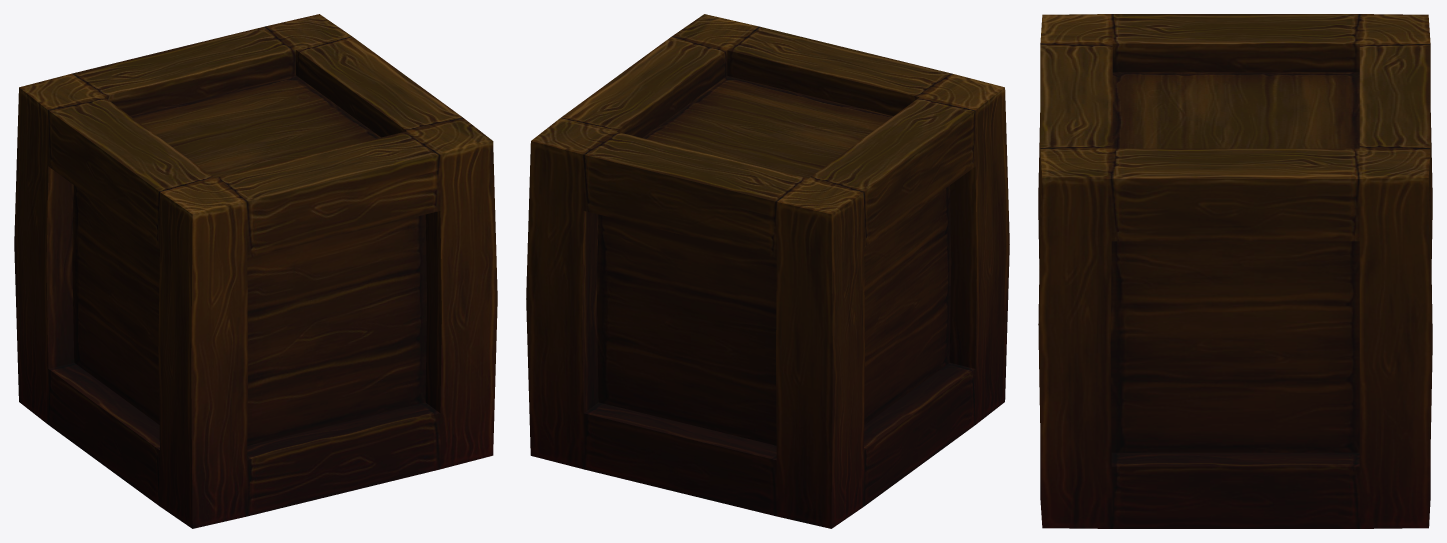
The model's file is stylized_low-poly_wood_crate.glb.
The picture shows the model from 3 angles, left to right: view 1: azimuth 30°, elevation 25°; view 2: azimuth 150°, elevation 25°; view 3: azimuth 270°, elevation 25°; orthographic projection. The views are drawn at different scales.
Visible parts, largest first — view 1: Cube; view 2: Cube; view 3: Cube.
Part boxes in pixels (x1=…): Cube: x1=14, y1=14, x2=497, y2=528; Cube: x1=526, y1=14, x2=1009, y2=528; Cube: x1=1038, y1=14, x2=1432, y2=528.
Bounding box in the file's own units: 40.8 × 40 × 40.8.
Materials: 1 (1 with a texture image).
